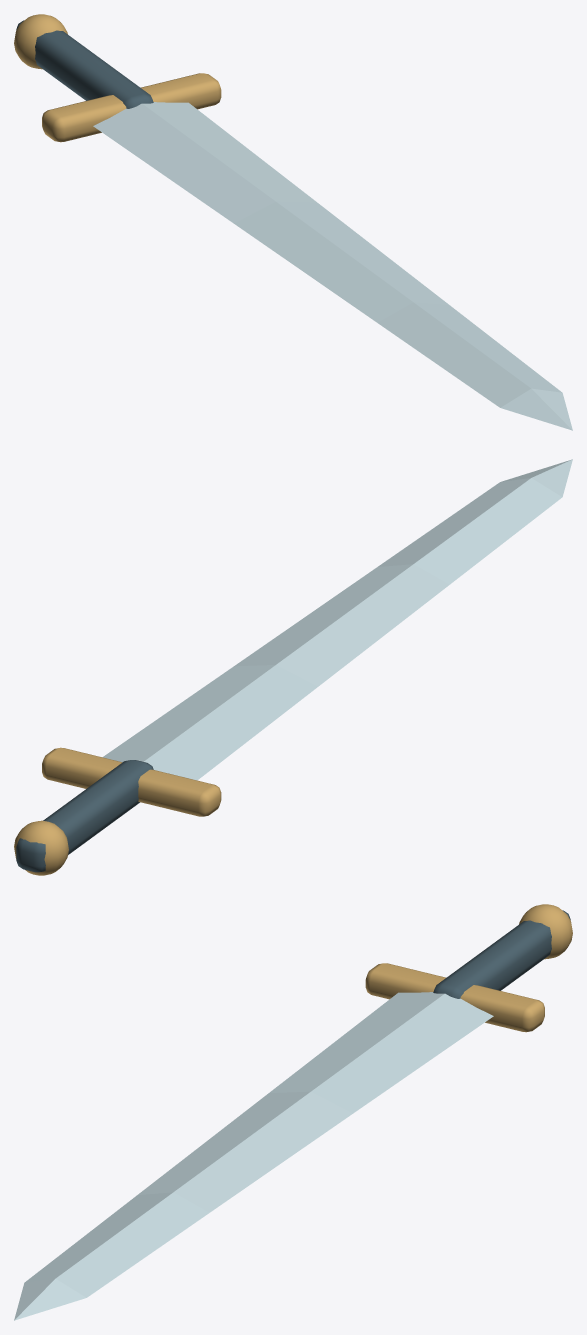
File: training_greatsword.glb
3 views of the same model, one above another, from view 1: azimuth 30°, elevation 25°; view 2: azimuth 150°, elevation 25°; view 3: azimuth 330°, elevation 25° (orthographic).
Visible parts, largest first — view 1: training_blade, grip, guard, pommel; view 2: training_blade, grip, guard, pommel; view 3: training_blade, grip, guard, pommel.
Boxes of the visible parts, x1=… form: training_blade: x1=93, y1=102, x2=572, y2=430; grip: x1=16, y1=20, x2=153, y2=108; guard: x1=42, y1=73, x2=221, y2=142; pommel: x1=14, y1=14, x2=67, y2=69; training_blade: x1=103, y1=459, x2=572, y2=780; grip: x1=16, y1=760, x2=153, y2=872; guard: x1=42, y1=747, x2=221, y2=816; pommel: x1=14, y1=820, x2=68, y2=875; training_blade: x1=14, y1=992, x2=493, y2=1320; grip: x1=433, y1=910, x2=570, y2=998; guard: x1=365, y1=963, x2=544, y2=1032; pommel: x1=519, y1=904, x2=572, y2=959.
Size of the model in its own units: 0.42 by 0.12 by 2.36.
